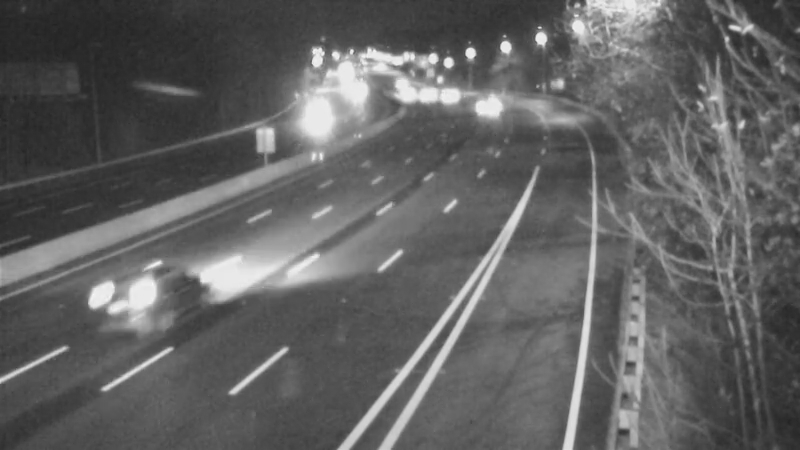vehicle: (72, 251, 182, 361), (374, 58, 424, 108), (401, 70, 451, 120), (383, 73, 433, 123), (423, 71, 473, 121), (453, 77, 503, 127), (289, 89, 339, 139)
